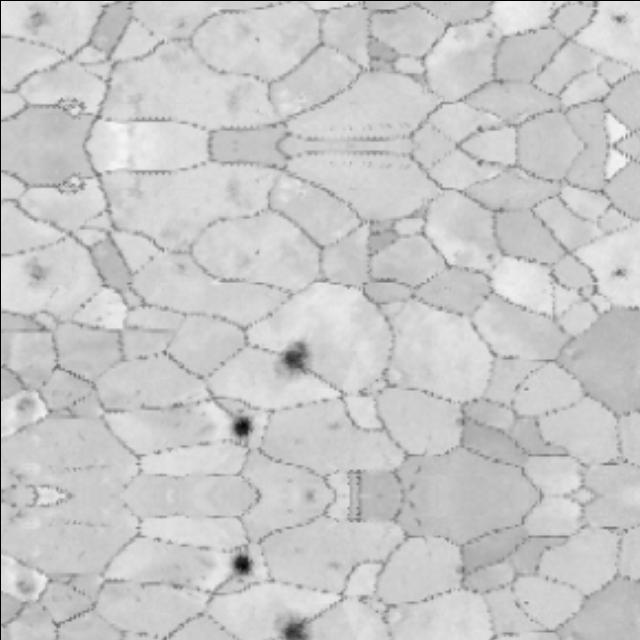good_void: (12, 246, 74, 296), (12, 0, 74, 42), (268, 340, 316, 382), (268, 608, 316, 640), (51, 173, 90, 203), (51, 85, 90, 115), (225, 412, 261, 443), (225, 547, 261, 577), (599, 257, 632, 289), (599, 0, 632, 31), (9, 570, 42, 599), (9, 391, 42, 419), (321, 414, 352, 436), (321, 554, 352, 576), (171, 250, 195, 277), (171, 11, 195, 38), (465, 150, 490, 170), (465, 118, 490, 138), (477, 247, 496, 266), (477, 22, 496, 41), (516, 381, 534, 393), (516, 597, 534, 609)
